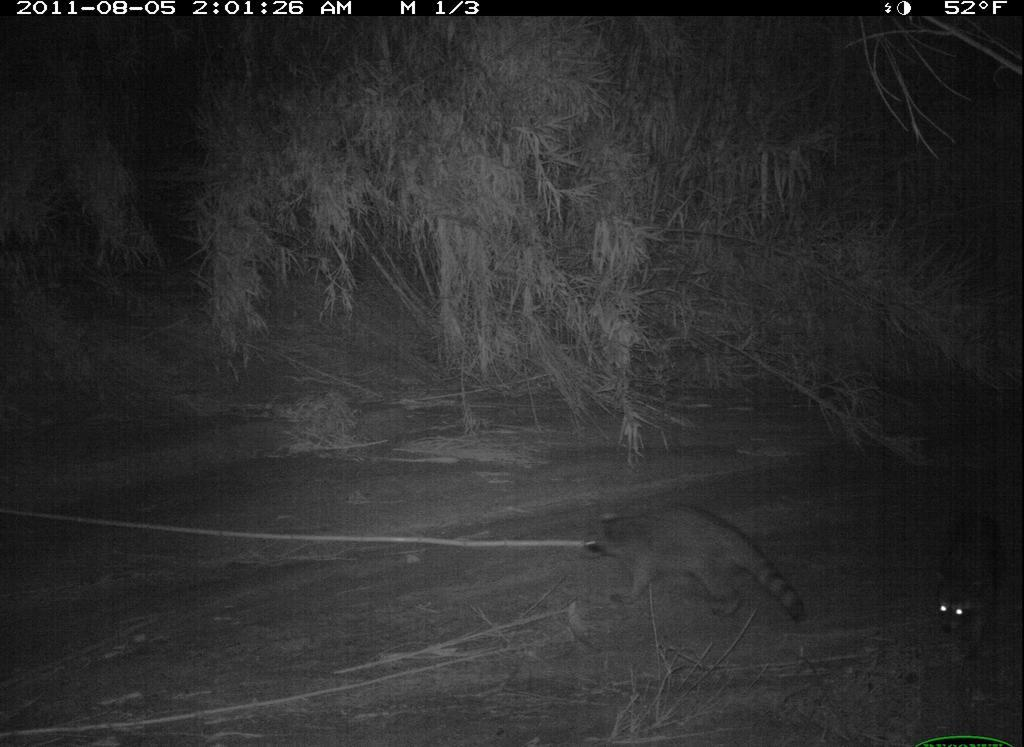raccoon: (573, 500, 813, 634), (913, 505, 1018, 675)
